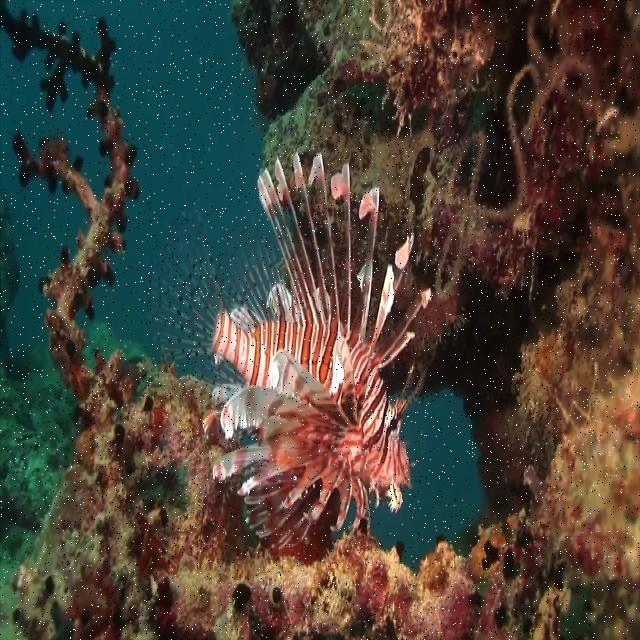fish: (150, 151, 433, 552)
